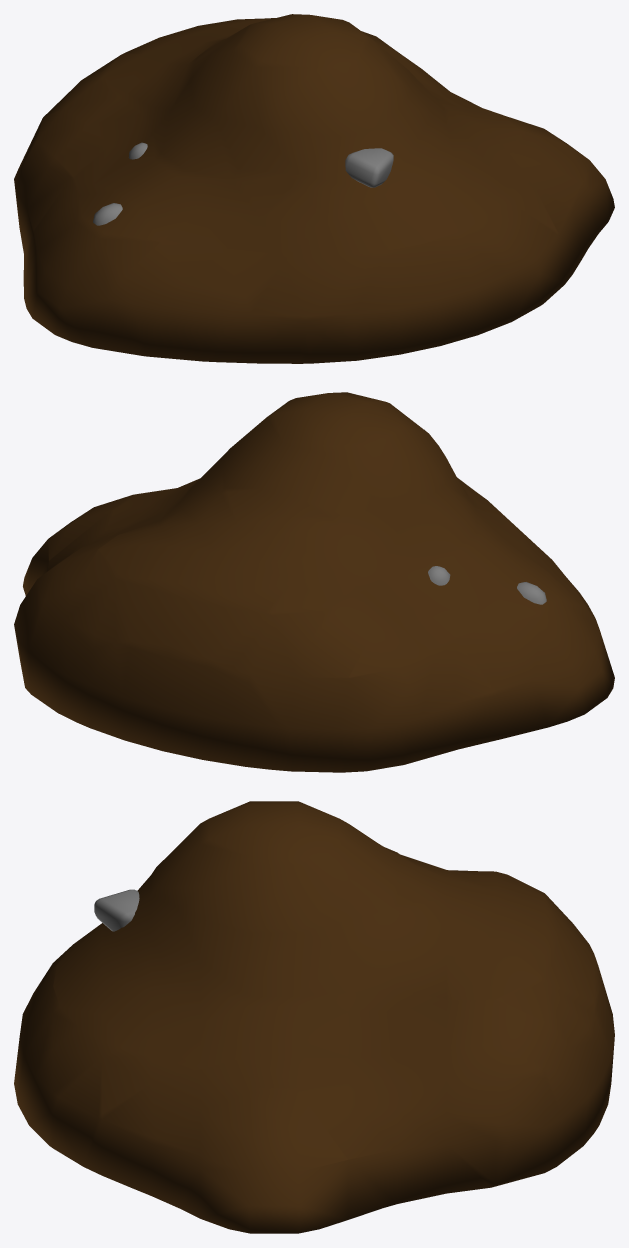
Rendered from Dirt.glb.
The picture shows the model from 3 angles, top to bottom: view 1: azimuth 30°, elevation 25°; view 2: azimuth 150°, elevation 25°; view 3: azimuth 270°, elevation 25°; orthographic projection. The views are drawn at different scales.
Parts seen in each view (by area): view 1: Dirt; view 2: Dirt; view 3: Dirt.
Boxes of the visible parts, x1,y1,x2,y2 form: Dirt: (14,14,614,363); Dirt: (14,392,614,772); Dirt: (14,801,614,1233).
Size of the model in its own units: 0.733 by 0.2959 by 0.624.
